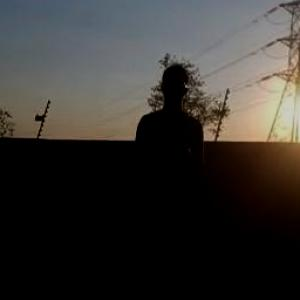follow: (104, 49, 210, 299)
